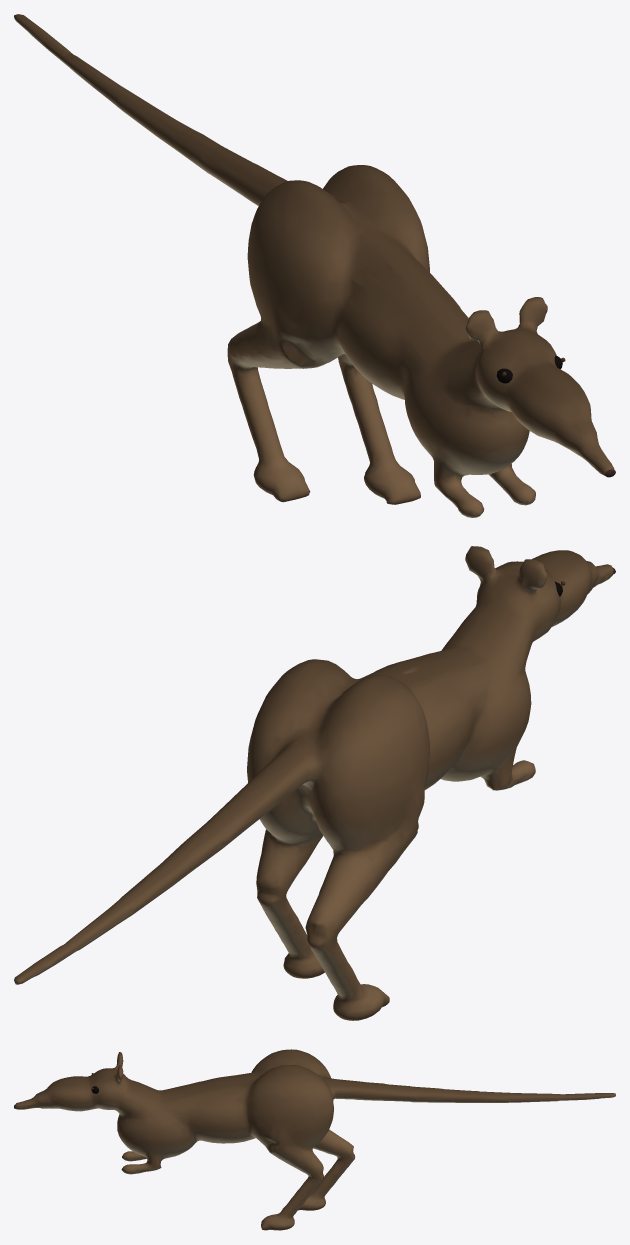
File: LeptictidiumNasutum.fbx
3 renders of one model, top to bottom at view 1: azimuth 30°, elevation 25°; view 2: azimuth 150°, elevation 25°; view 3: azimuth 270°, elevation 25°, orthographic. The views are drawn at different scales.
Parts seen in each view (by area): view 1: LeptictidiumNasutum; view 2: LeptictidiumNasutum; view 3: LeptictidiumNasutum.
Part boxes in pixels (box(x1,y1,x2,y2)): LeptictidiumNasutum: box(14, 14, 615, 517); LeptictidiumNasutum: box(14, 546, 615, 1020); LeptictidiumNasutum: box(14, 1049, 615, 1230).
Size of the model in its own units: 0.2734 by 0.5716 by 1.94.
